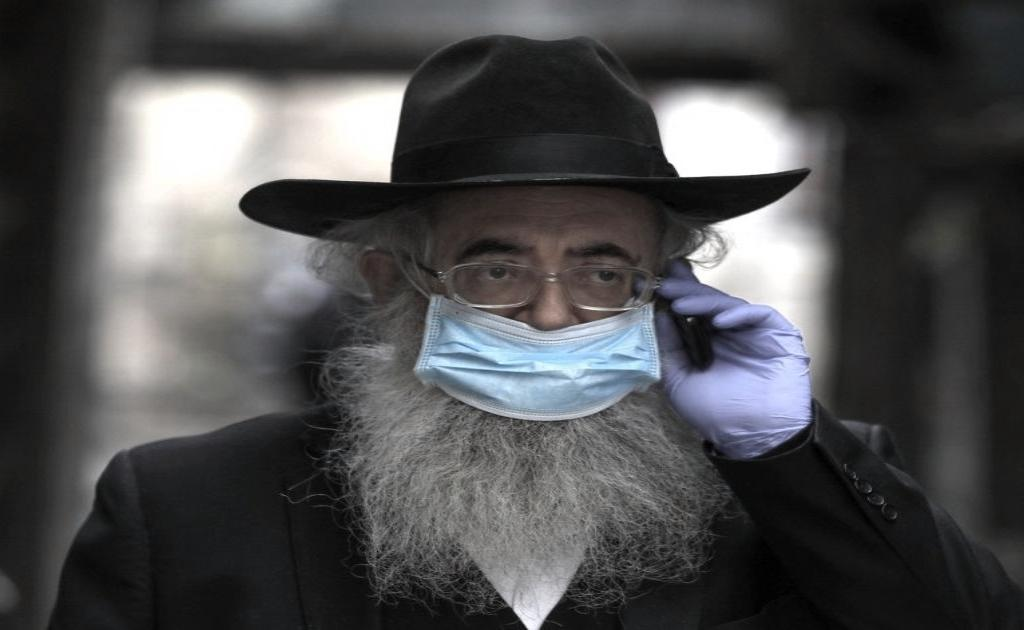mask_weared_incorrect: (363, 192, 681, 427)
